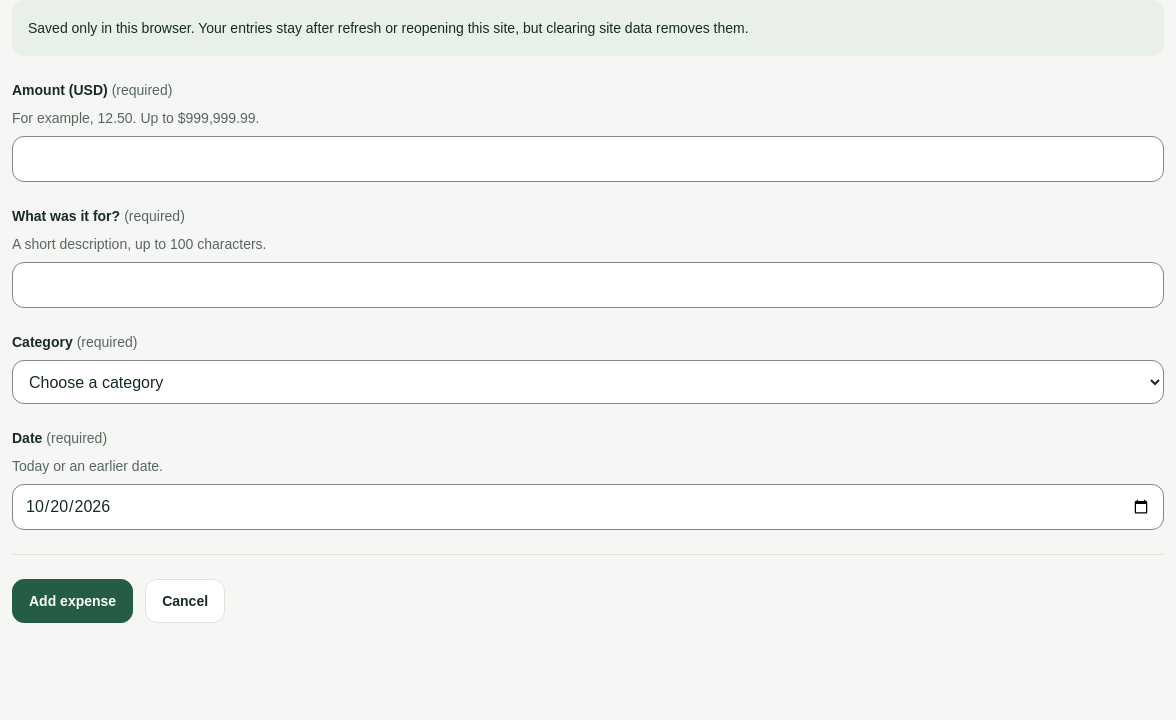
Test: a new provider lifetime restores the previous visit's saved records
The image size is (1176, 720).
In the field labelled "Amount (USD)(required)": (588,159) [12, 136, 1164, 182], type "12.34"
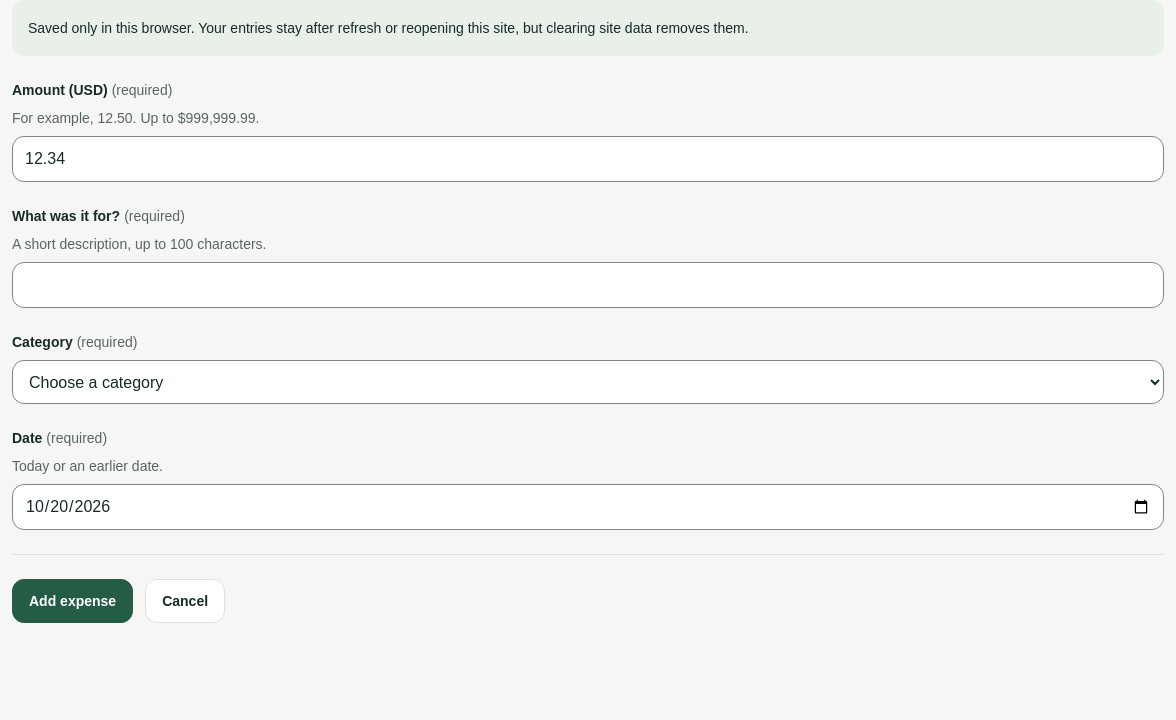
In the field labelled "What was it for?(required)": (588,285) [12, 262, 1164, 308], type "  Lunch  "
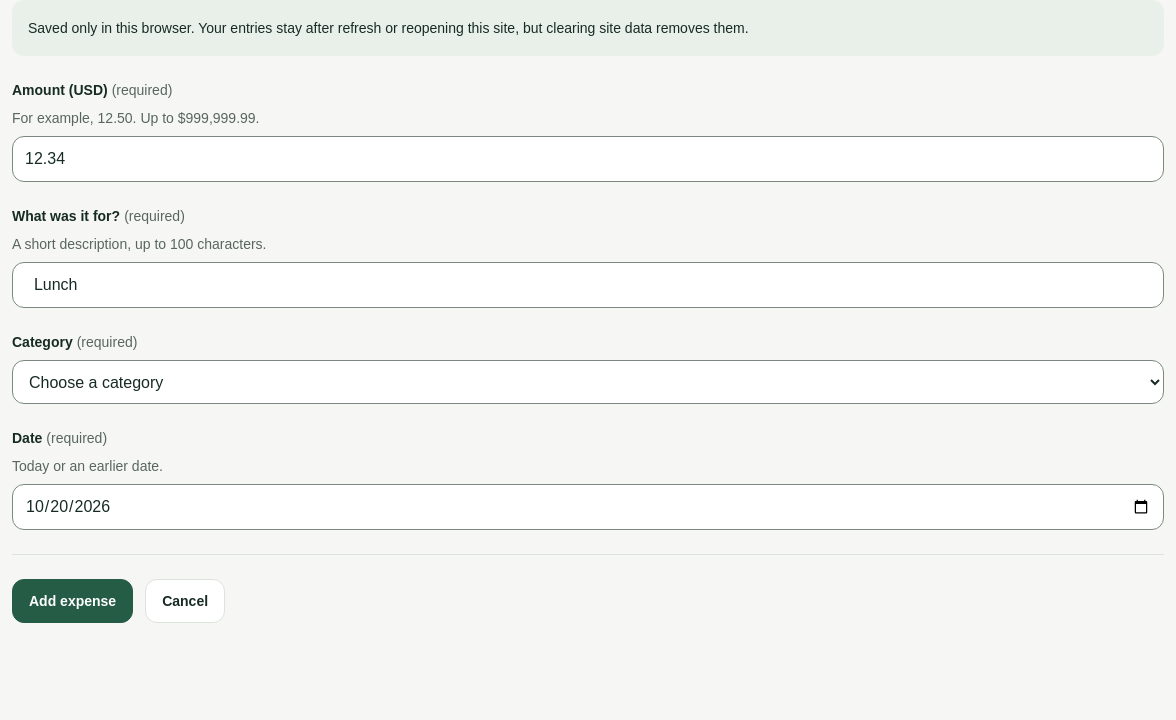
Select "Food & Drink" in the dropdown labelled "Category(required)": (588,382) [12, 360, 1164, 404]
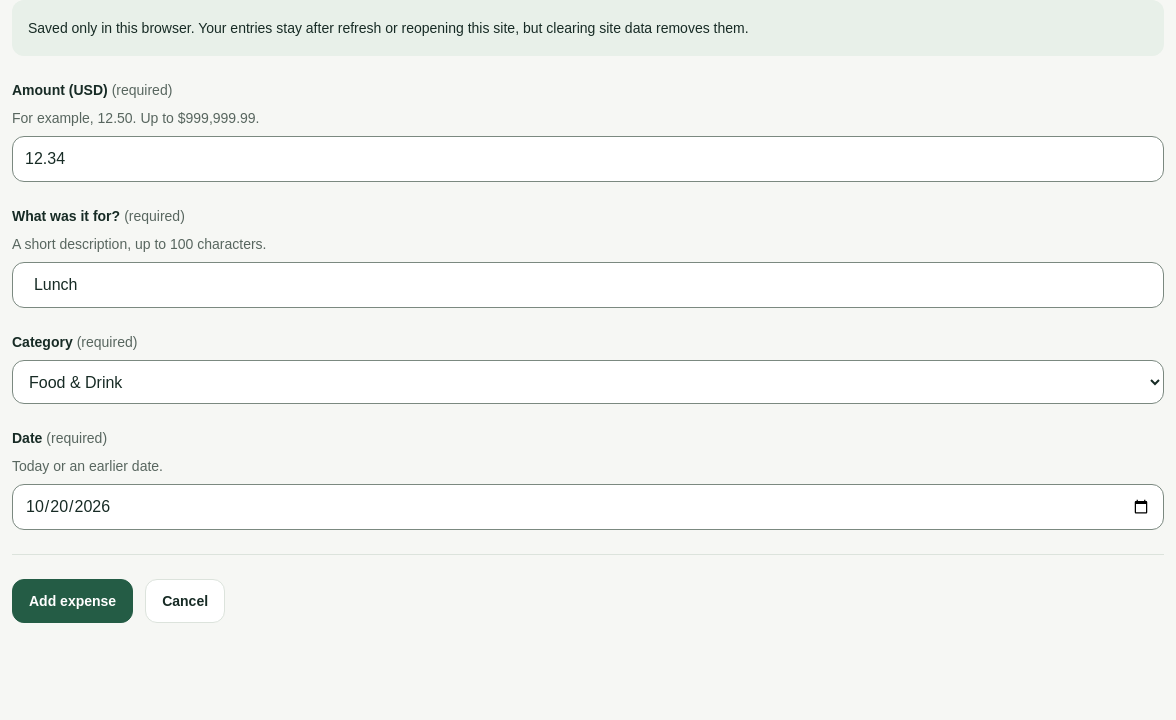
Submit the form
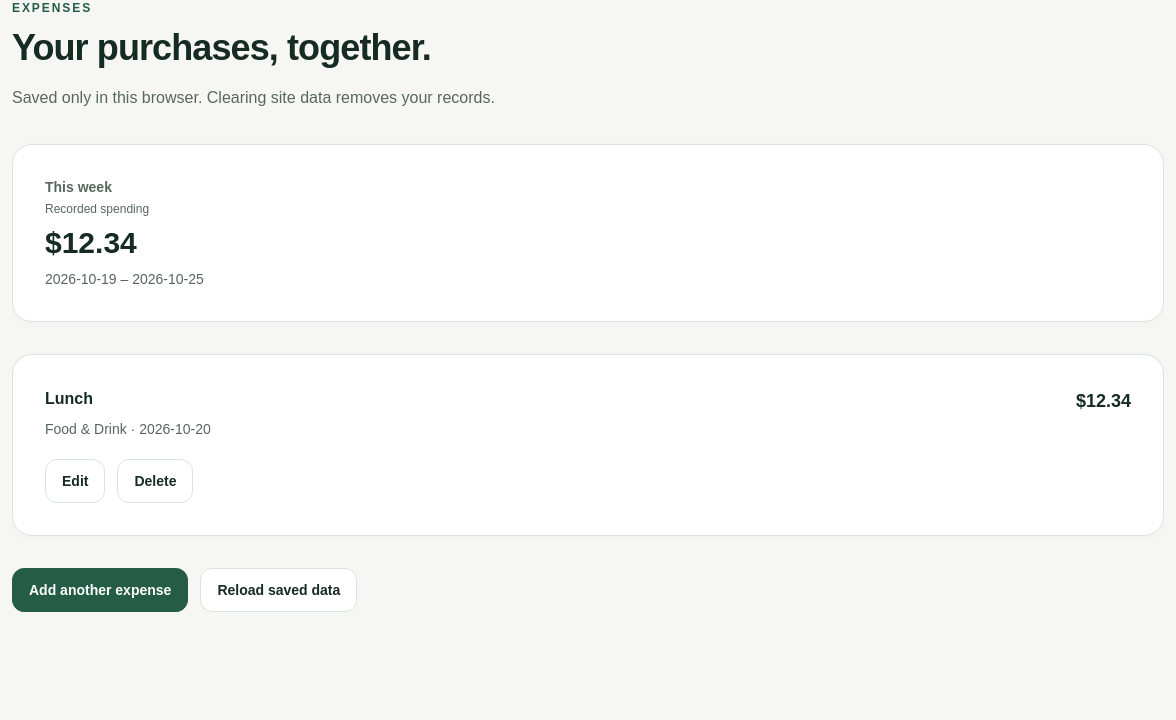
Result: the list named "Saved expenses" is shown at [12, 354, 1164, 536]
Result: the text "Lunch" is shown at [45, 390, 93, 407]
